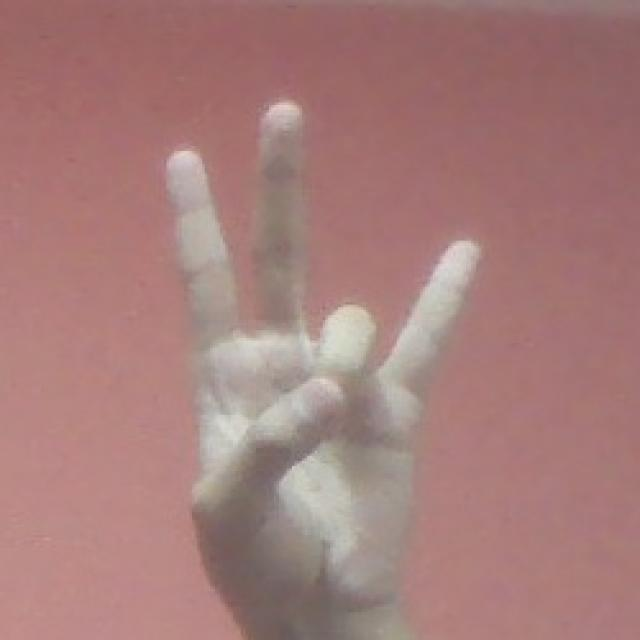Numeric-7: (154, 88, 484, 596)
